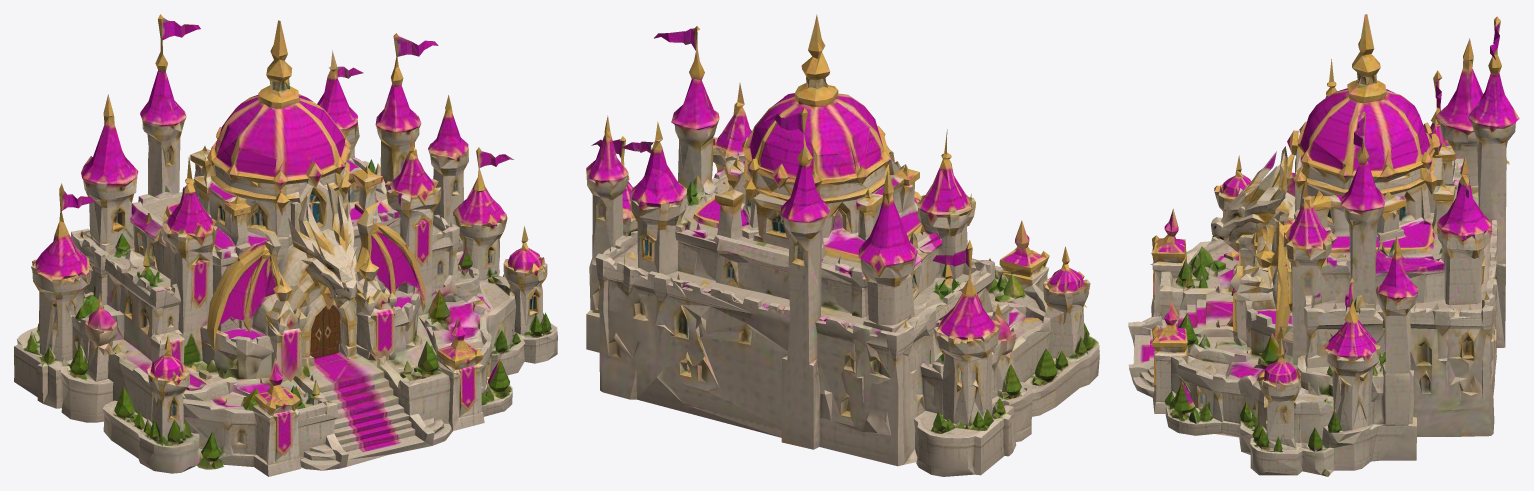
Rendered from build4.glb.
3 renders of one model, left to right at view 1: azimuth 30°, elevation 25°; view 2: azimuth 150°, elevation 25°; view 3: azimuth 270°, elevation 25°, orthographic. The views are drawn at different scales.
Bounding box in the file's own units: 1.89 × 1.43 × 1.45.
Materials: 1 (1 with a texture image).
